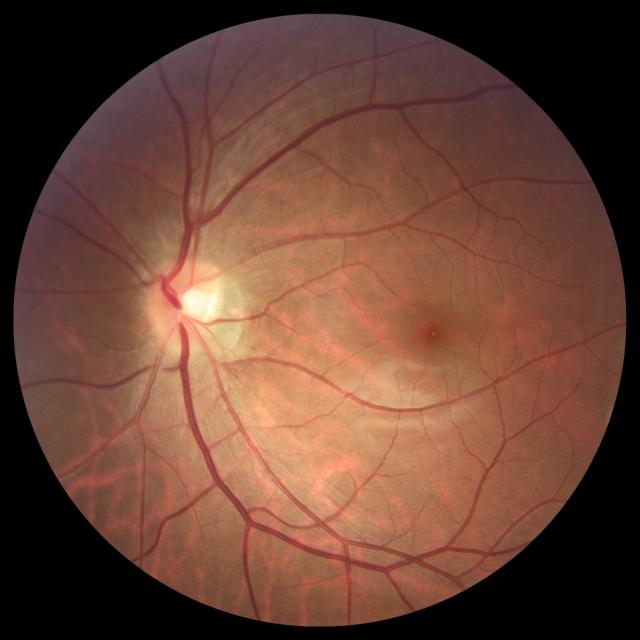OC: (176, 286, 212, 323)
OD: (150, 258, 226, 350)
